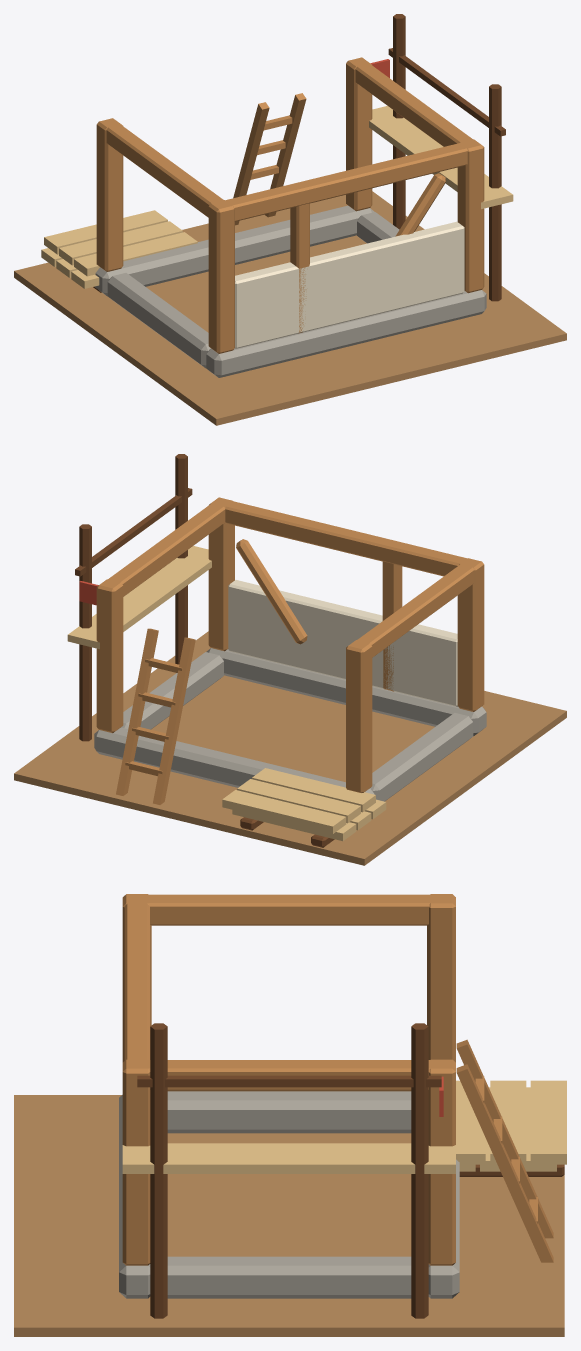
File: construction_site.fbx
3 renders of one model, top to bottom at view 1: azimuth 30°, elevation 25°; view 2: azimuth 150°, elevation 25°; view 3: azimuth 270°, elevation 25°, orthographic. The views are drawn at different scales.
Visible parts, largest first — view 1: construction_site; view 2: construction_site; view 3: construction_site.
Part boxes in pixels (x1=…): construction_site: x1=14, y1=14, x2=566, y2=425; construction_site: x1=14, y1=454, x2=566, y2=865; construction_site: x1=14, y1=894, x2=566, y2=1336.
Bounding box in the file's own units: 0.912 × 0.5484 × 0.9156.
